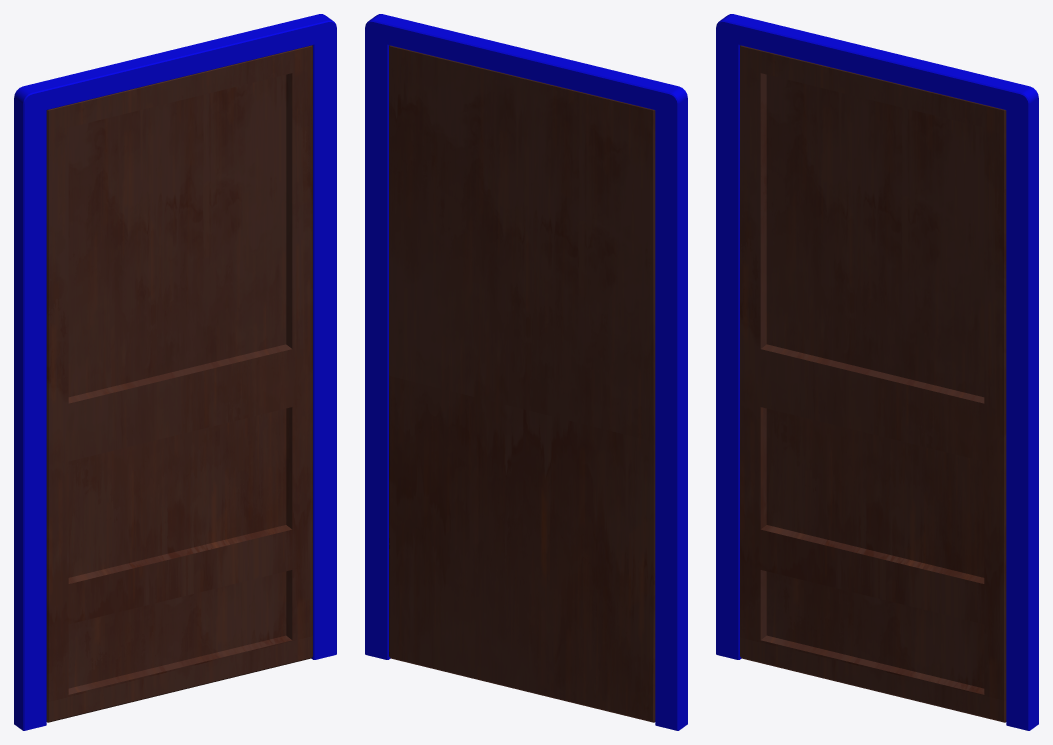
File: Mesh_ExitDoor.fbx
3 renders of one model, left to right at view 1: azimuth 30°, elevation 25°; view 2: azimuth 150°, elevation 25°; view 3: azimuth 330°, elevation 25°, orthographic.
Parts seen in each view (by area): view 1: DoorExit_low, DoorExit_Frame_low; view 2: DoorExit_low, DoorExit_Frame_low; view 3: DoorExit_low, DoorExit_Frame_low.
Part boxes in pixels (box(x1,y1,x2,y2)): DoorExit_low: box(46, 45, 312, 722); DoorExit_Frame_low: box(14, 14, 336, 730); DoorExit_low: box(389, 45, 655, 722); DoorExit_Frame_low: box(365, 14, 687, 730); DoorExit_low: box(740, 45, 1006, 722); DoorExit_Frame_low: box(716, 14, 1038, 730).
Size of the model in its own units: 109 by 211 by 6.
Materials: 2 (1 with a texture image).
